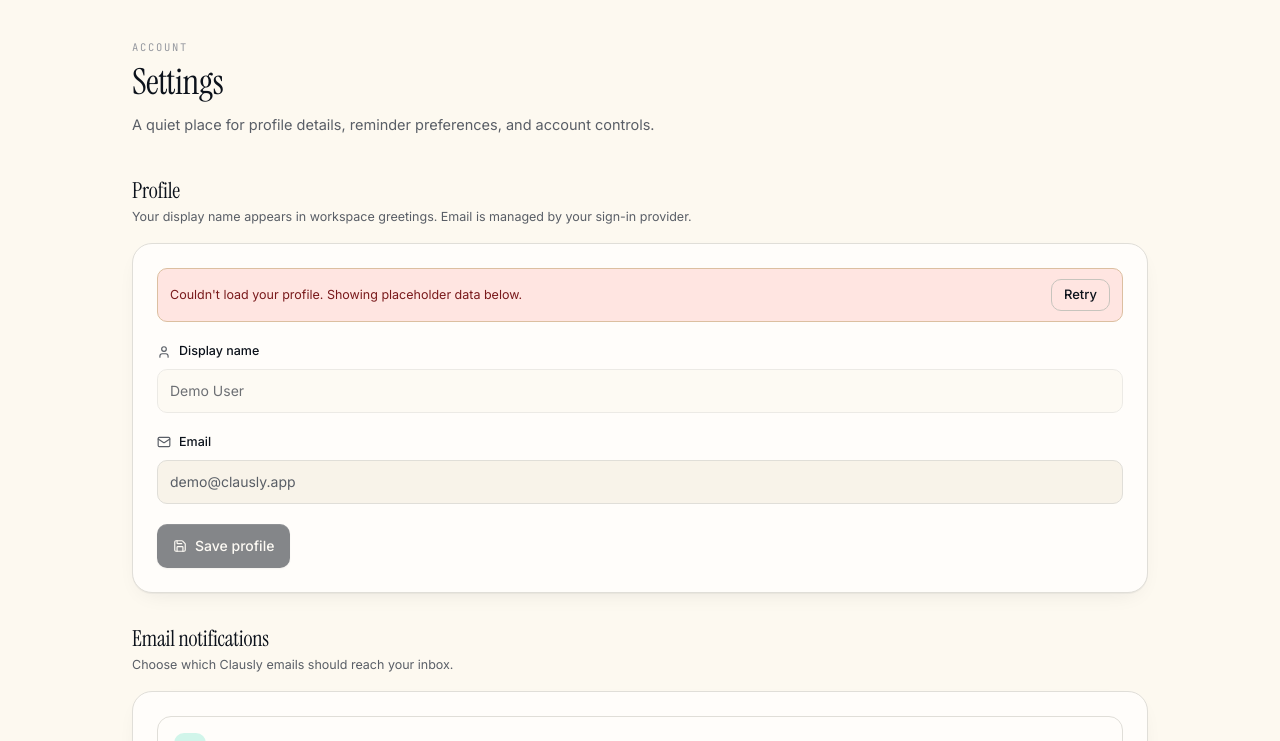
SettingsPage › retries the profile fetch and clears the error banner on success
Expected: the text "Couldn't load your profile. Showing placeholder data below." is shown, [170,286,522,305]
Click the button "Retry".
click(1080, 295)  # box [1051,279,1110,311]
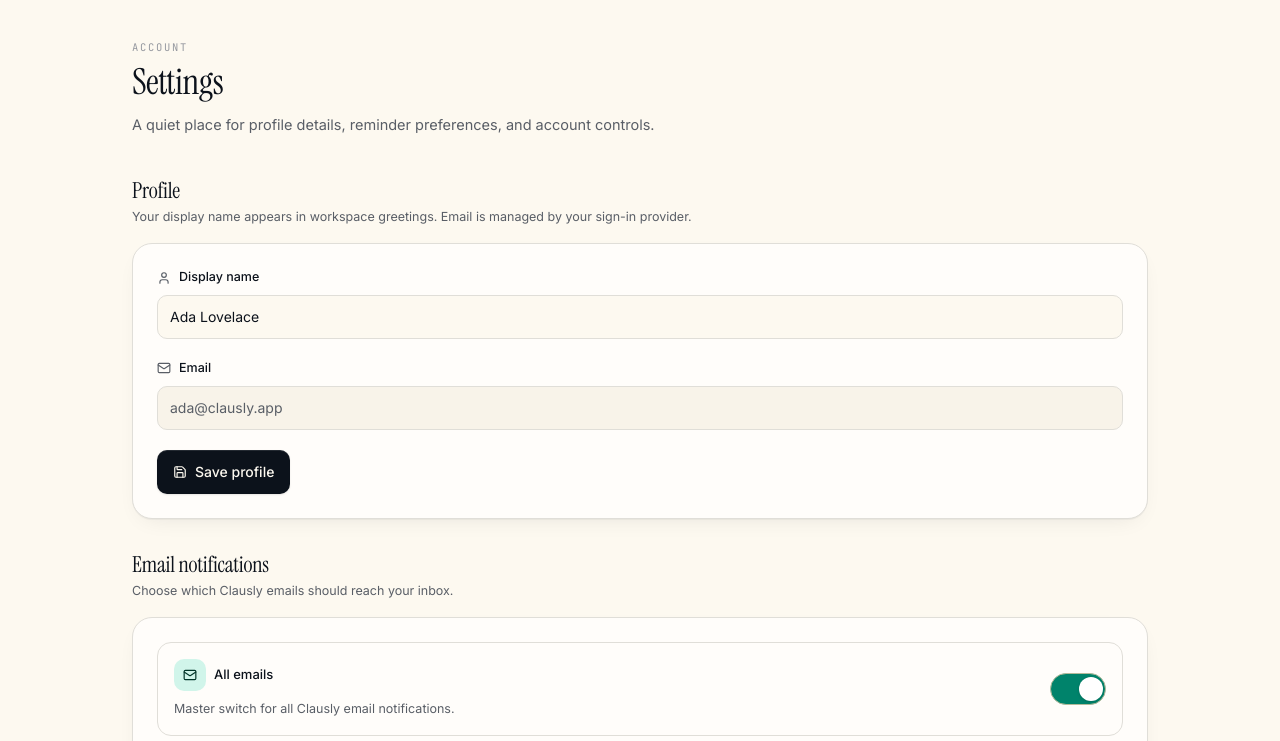
Expected: the field showing "Ada Lovelace" is shown, [157,295,1123,339]
Expected: the text "Couldn't load your profile" is gone
